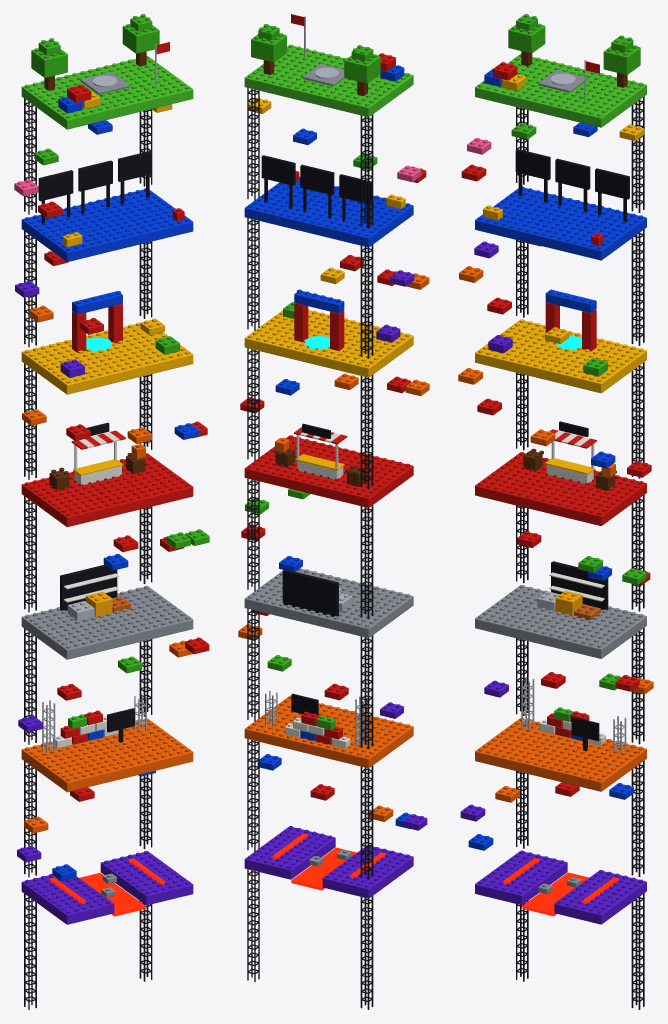
Rendered from tower.glb.
3 views of the same model, side by side, from view 1: azimuth 30°, elevation 25°; view 2: azimuth 150°, elevation 25°; view 3: azimuth 330°, elevation 25° (orthographic).
Visible parts, largest first — view 1: baked_f1, baked_f0, baked_f4, baked_f5, baked_f3, baked_f2, baked_f6; view 2: baked_f1, baked_f0, baked_f2, baked_f5, baked_f3, baked_f4, baked_f6; view 3: baked_f1, baked_f0, baked_f5, baked_f4, baked_f2, baked_f3, baked_f6.
Part boxes in pixels (x1,y1,x2,y2): baked_f1: (15,151,193,347); baked_f0: (14,14,193,218); baked_f4: (18,564,209,744); baked_f5: (17,694,193,880); baked_f3: (21,422,209,612); baked_f2: (21,291,207,479); baked_f6: (21,851,193,1009); baked_f1: (244,155,429,358); baked_f0: (244,14,426,228); baked_f2: (240,289,429,488); baked_f5: (244,690,427,879); baked_f3: (241,423,413,619); baked_f4: (238,568,413,749); baked_f6: (244,826,413,1009); baked_f1: (459,149,646,345); baked_f0: (461,14,646,212); baked_f5: (460,677,646,876); baked_f4: (475,561,653,744); baked_f2: (458,289,651,478); baked_f3: (475,421,650,611); baked_f6: (475,850,646,1009).
Bounding box in the file's own units: 23 × 117 × 11.49.
